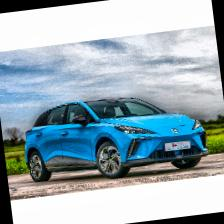EV: (19, 86, 211, 189)
